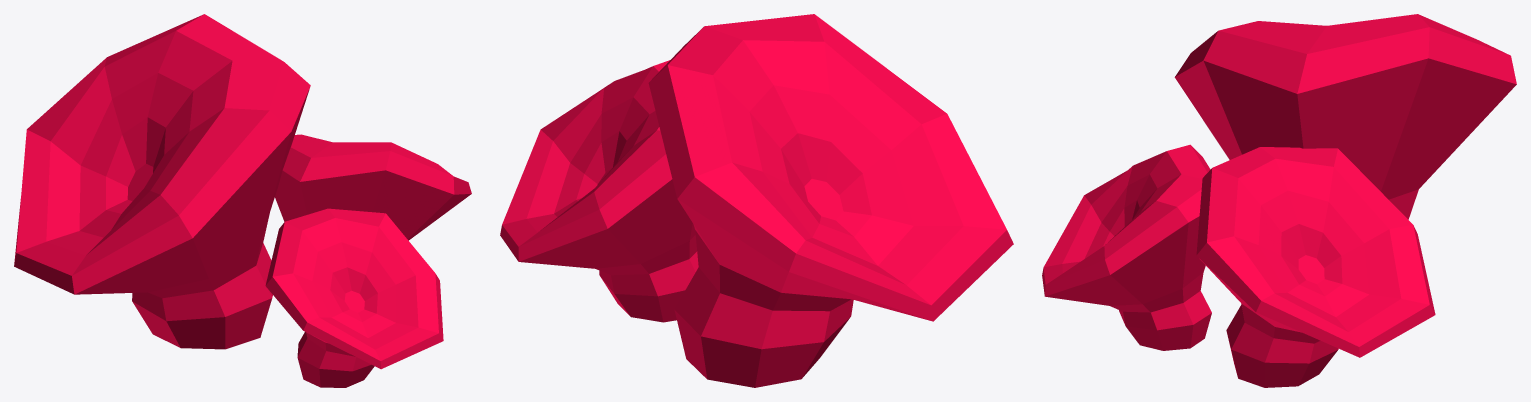
The model's file is propFlowerC.fbx.
3 views of the same model, side by side, from view 1: azimuth 30°, elevation 25°; view 2: azimuth 150°, elevation 25°; view 3: azimuth 270°, elevation 25° (orthographic). The views are drawn at different scales.
Parts seen in each view (by area): view 1: FlowerC; view 2: FlowerC; view 3: FlowerC.
Part boxes in pixels (bbox=[...]): FlowerC: bbox=[14, 14, 471, 387]; FlowerC: bbox=[500, 14, 1013, 387]; FlowerC: bbox=[1042, 14, 1516, 387].
Size of the model in its own units: 258 by 169 by 239.
